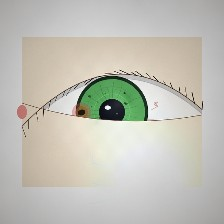foreign_body_visible: (108, 115, 156, 153)
